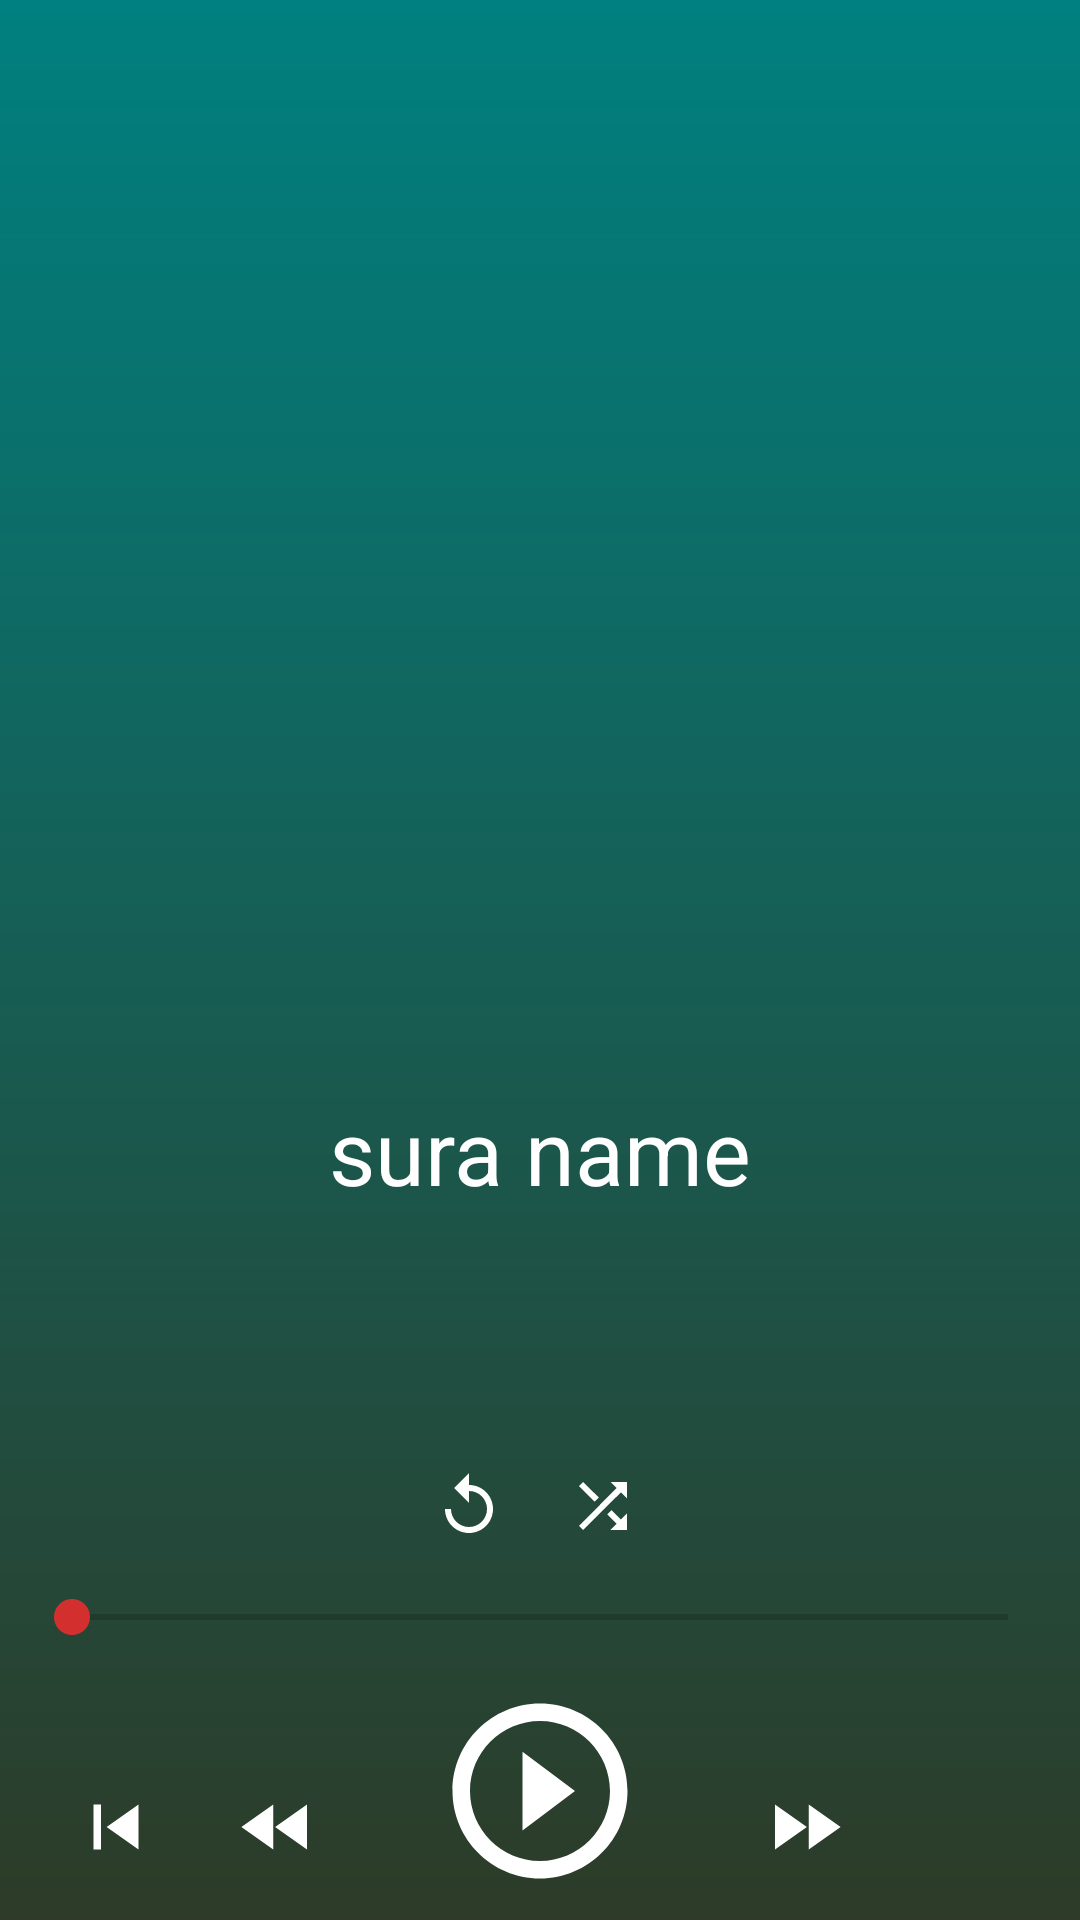

Icons on this 1080 x 1920 Android screen, each with its box as box=[x1, y1, x2, y2]:
fast forward: box=[775, 1804, 841, 1850]
fast rewind: box=[241, 1804, 307, 1850]
play circle: box=[452, 1703, 628, 1879]
replay: box=[445, 1473, 493, 1533]
shuffle: box=[579, 1482, 627, 1530]
skip previous: box=[93, 1804, 139, 1850]
